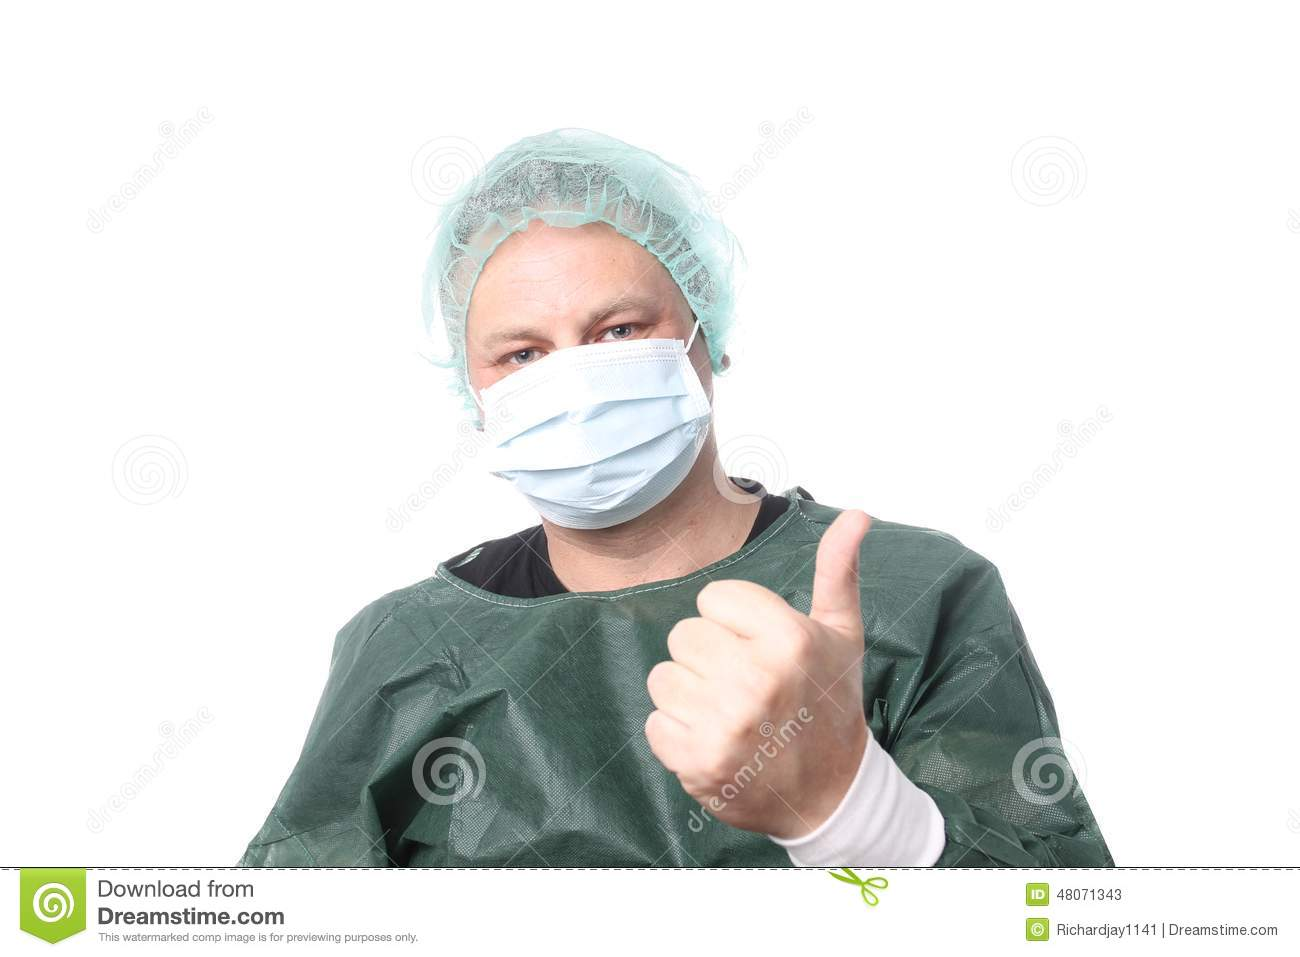mask: (466, 357, 745, 538)
